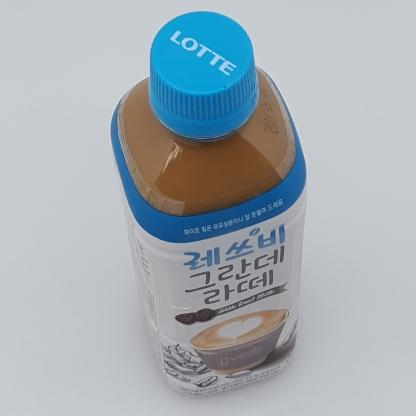--------500ML: (111, 10, 307, 398)
